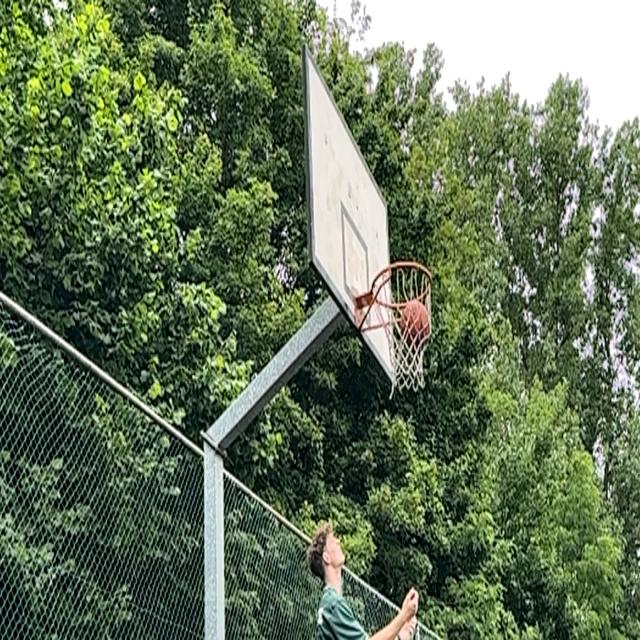Goal: (402, 302, 430, 348)
